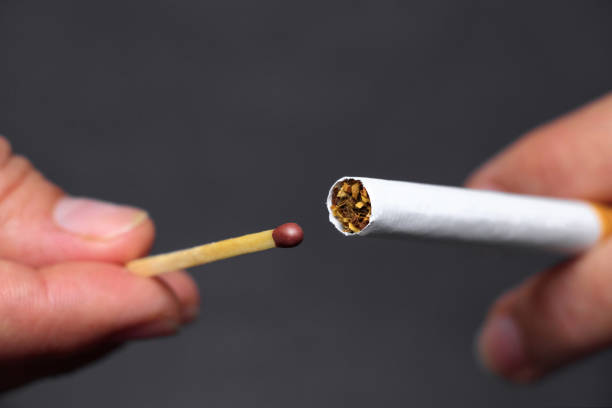cigarette: (325, 175, 612, 256)
